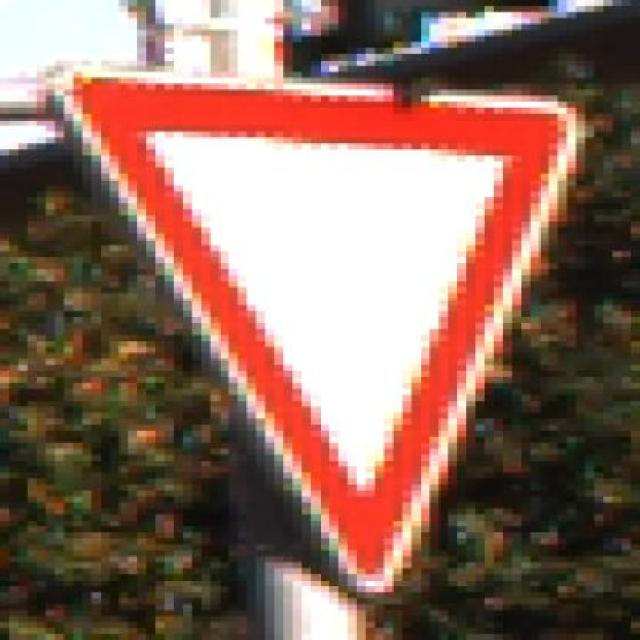Give Way: (64, 48, 585, 586)
